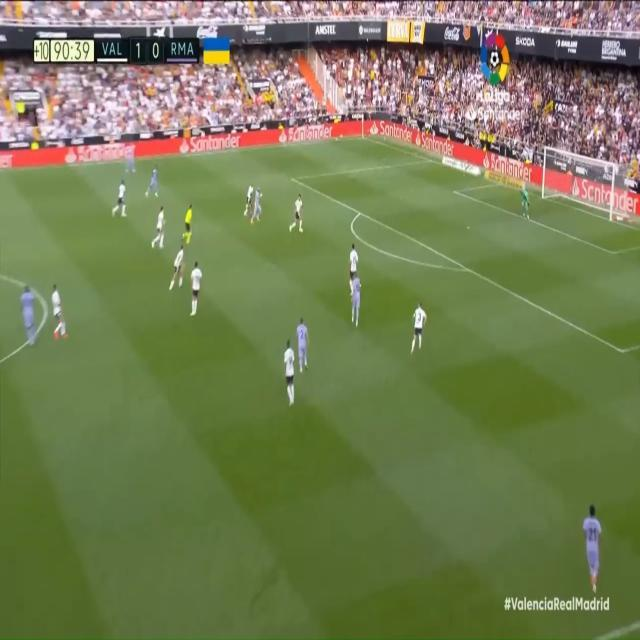goalkeeper: (519, 180, 530, 222)
player: (582, 502, 603, 600), (281, 336, 297, 408), (51, 284, 69, 341), (410, 300, 428, 355), (20, 284, 35, 348), (189, 258, 204, 318), (111, 175, 130, 221), (295, 313, 308, 376), (289, 189, 305, 240), (349, 272, 363, 330), (347, 241, 363, 290), (152, 208, 169, 252), (171, 240, 185, 293), (144, 159, 161, 201), (125, 137, 140, 180), (242, 178, 256, 221), (252, 184, 265, 228)
referee: (180, 201, 196, 251)
